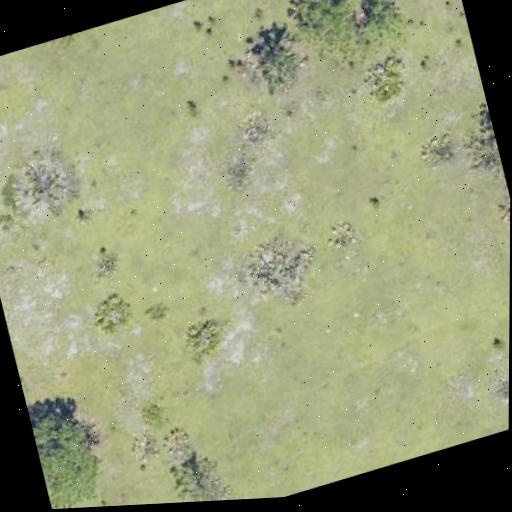tree-top: (282, 0, 414, 77), (26, 389, 105, 510), (1, 141, 87, 233), (238, 18, 314, 102)
